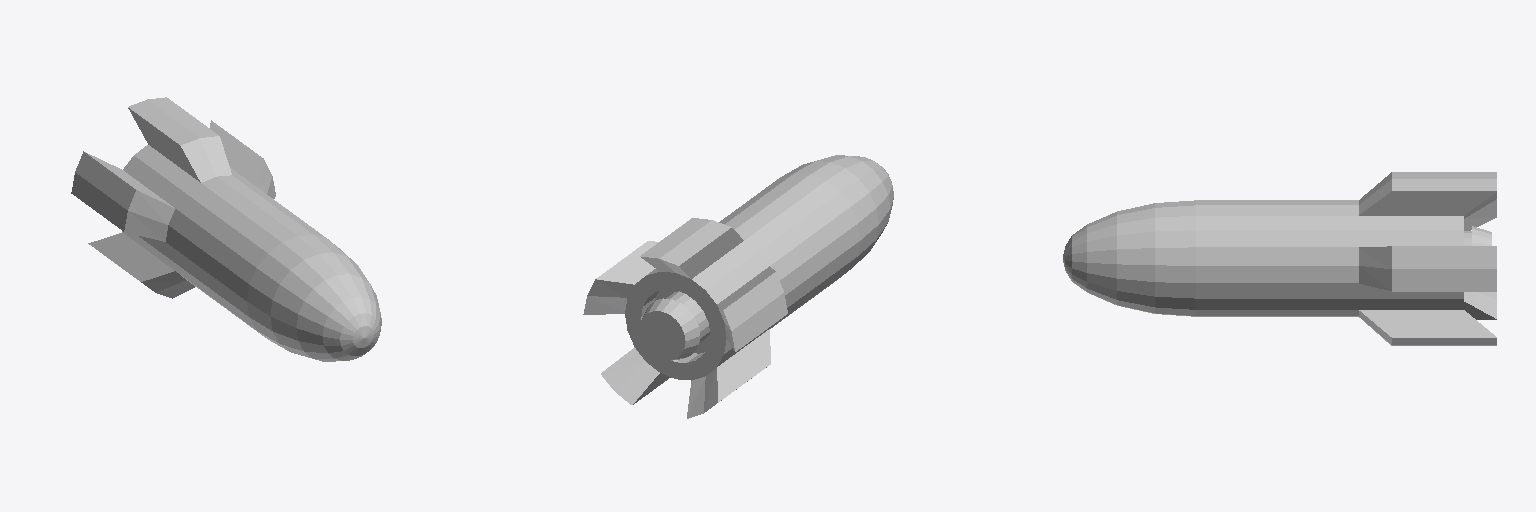
The model's file is rocket.obj.
The picture shows the model from 3 angles: view 1: azimuth 30°, elevation 25°; view 2: azimuth 150°, elevation 25°; view 3: azimuth 270°, elevation 25°; orthographic projection.
Parts seen in each view (by area): view 1: Rocket_low; view 2: Rocket_low; view 3: Rocket_low.
Boxes of the visible parts, x1=… form: Rocket_low: x1=71, y1=97, x2=381, y2=361; Rocket_low: x1=583, y1=155, x2=893, y2=418; Rocket_low: x1=1063, y1=172, x2=1496, y2=345.
Size of the model in its own units: 0.2174 by 0.2103 by 0.5388.